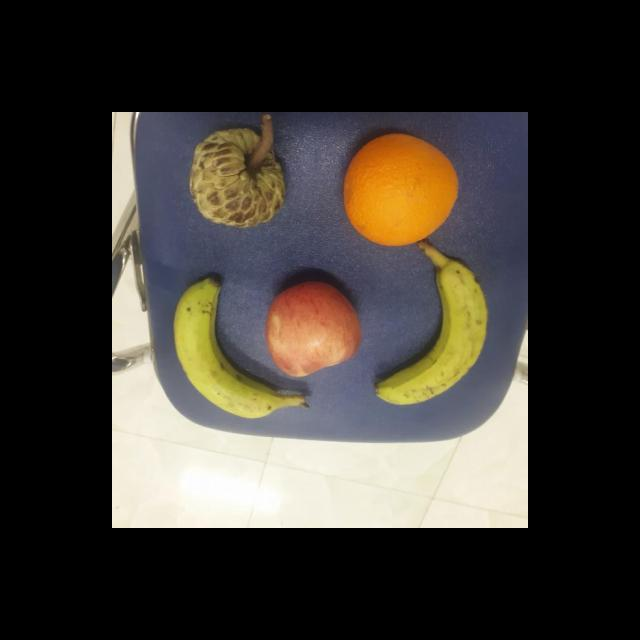Sakya fruit: (190, 128, 286, 228)
apple: (266, 280, 362, 378)
banana: (172, 276, 312, 418), (374, 260, 489, 406)
orange: (342, 133, 458, 248)
